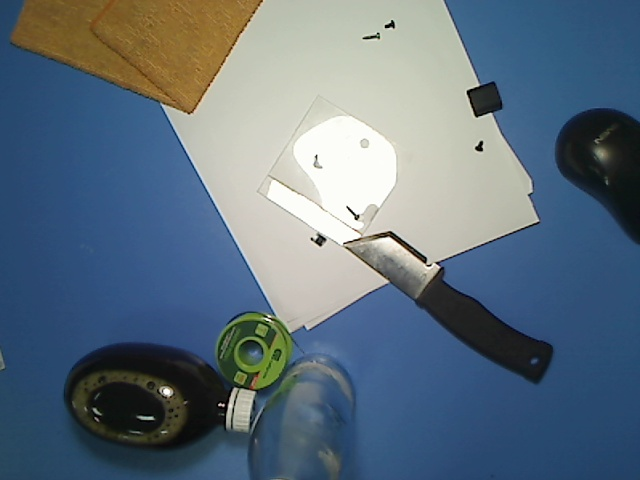plast_bottle: (57, 337, 269, 455)
